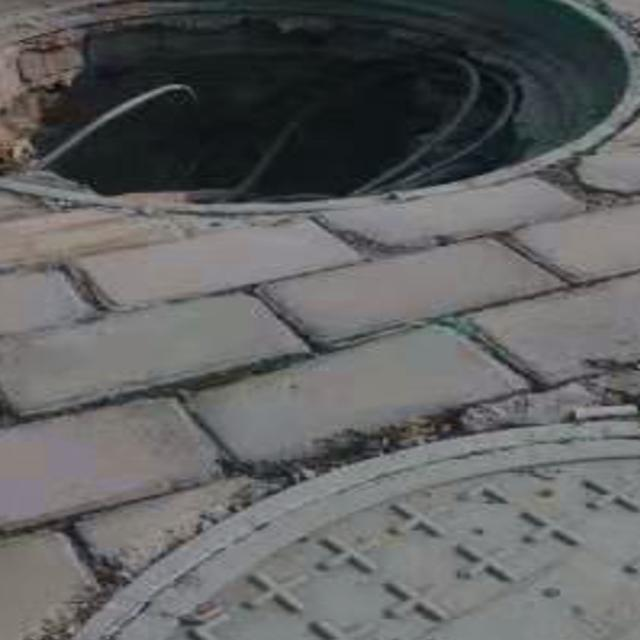lose: (0, 417, 640, 640), (0, 0, 640, 217)
